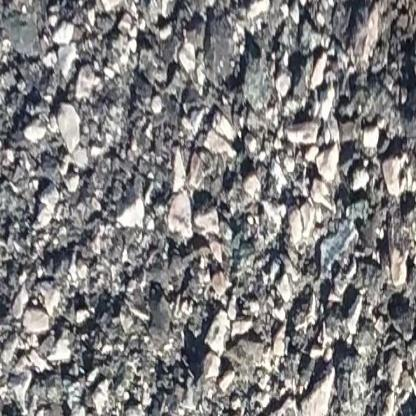Cracks: (397, 256, 416, 344), (399, 51, 416, 130), (392, 387, 416, 416)
